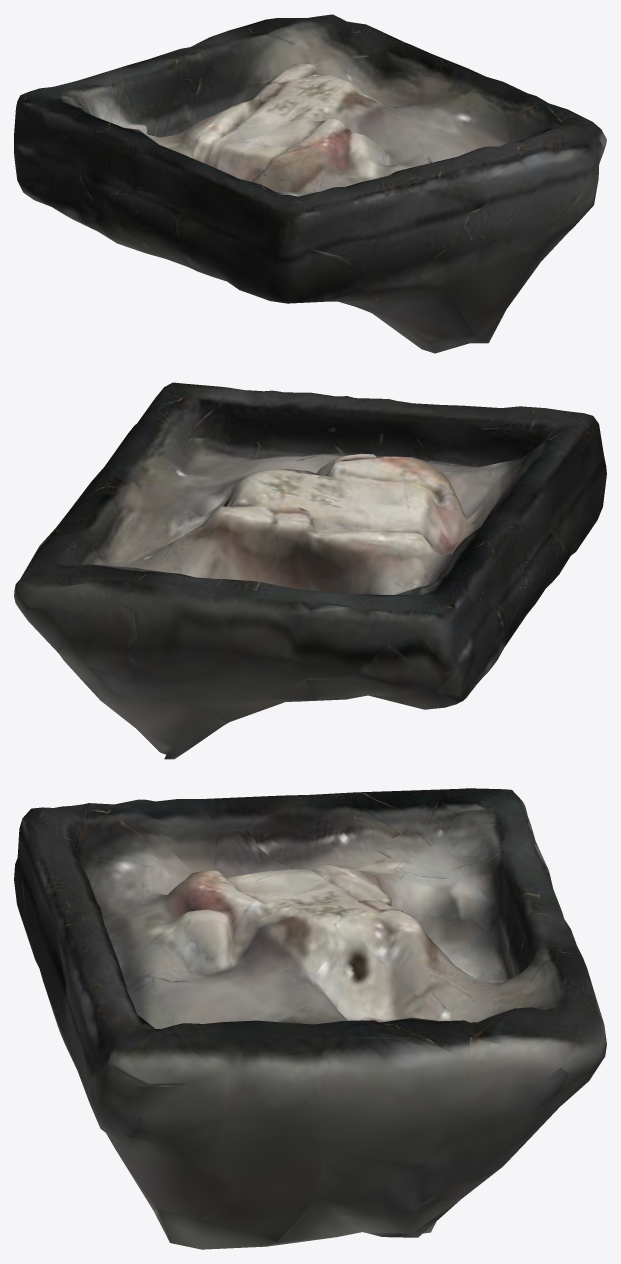
Rendered from hall.glb.
3 views of the same model, one above another, from view 1: azimuth 30°, elevation 25°; view 2: azimuth 150°, elevation 25°; view 3: azimuth 270°, elevation 25° (orthographic). The views are drawn at different scales.
Size of the model in its own units: 0.7299 by 0.3996 by 0.7216.
Materials: 1 (1 with a texture image).
